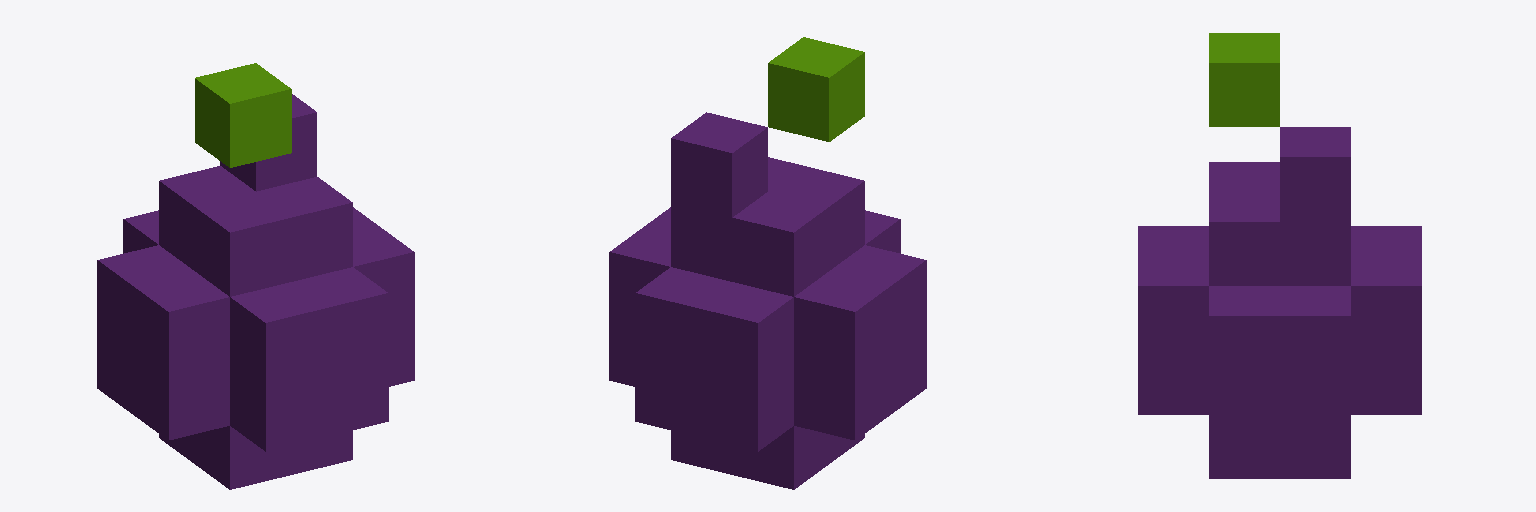
3 views of the same model, side by side, from view 1: azimuth 30°, elevation 25°; view 2: azimuth 150°, elevation 25°; view 3: azimuth 270°, elevation 25° (orthographic).
Visible parts, largest first — view 1: object 1; view 2: object 1; view 3: object 1.
Boxes of the visible parts, x1=… form: object 1: x1=97, y1=63, x2=414, y2=489; object 1: x1=609, y1=37, x2=926, y2=489; object 1: x1=1138, y1=33, x2=1421, y2=478.
Size of the model in its own units: 0.4 by 0.6 by 0.4.
1 materials, 1 textured.